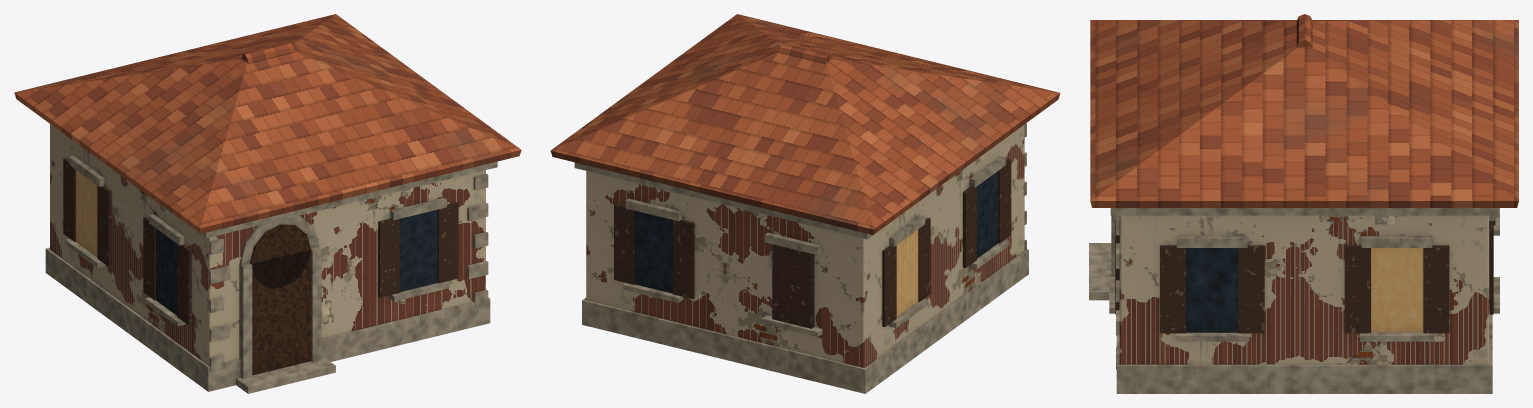
Rendered from siracusa_house_low.glb.
3 renders of one model, left to right at view 1: azimuth 30°, elevation 25°; view 2: azimuth 150°, elevation 25°; view 3: azimuth 270°, elevation 25°, orthographic. The views are drawn at different scales.
Parts seen in each view (by area): view 1: siracusa_house_low; view 2: siracusa_house_low; view 3: siracusa_house_low.
Part boxes in pixels (box(x1,y1,x2,y2)): siracusa_house_low: box(14, 14, 521, 393); siracusa_house_low: box(550, 14, 1060, 393); siracusa_house_low: box(1089, 14, 1518, 393).
Size of the model in its own units: 6.96 by 5.15 by 6.98.
Materials: 7 (7 with a texture image).
